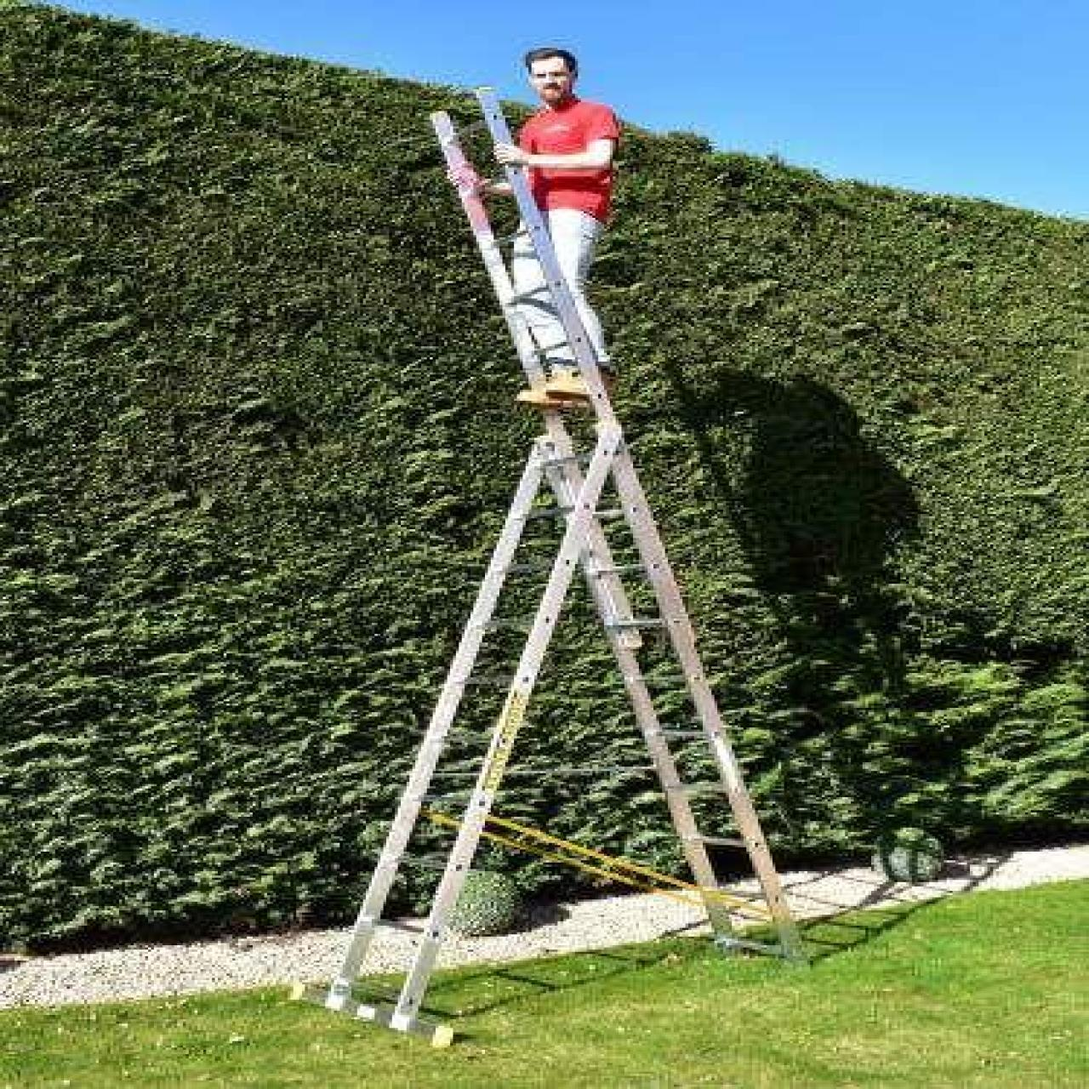NO_Safety_Vest: (515, 109, 613, 219)
Person: (458, 49, 622, 404)
